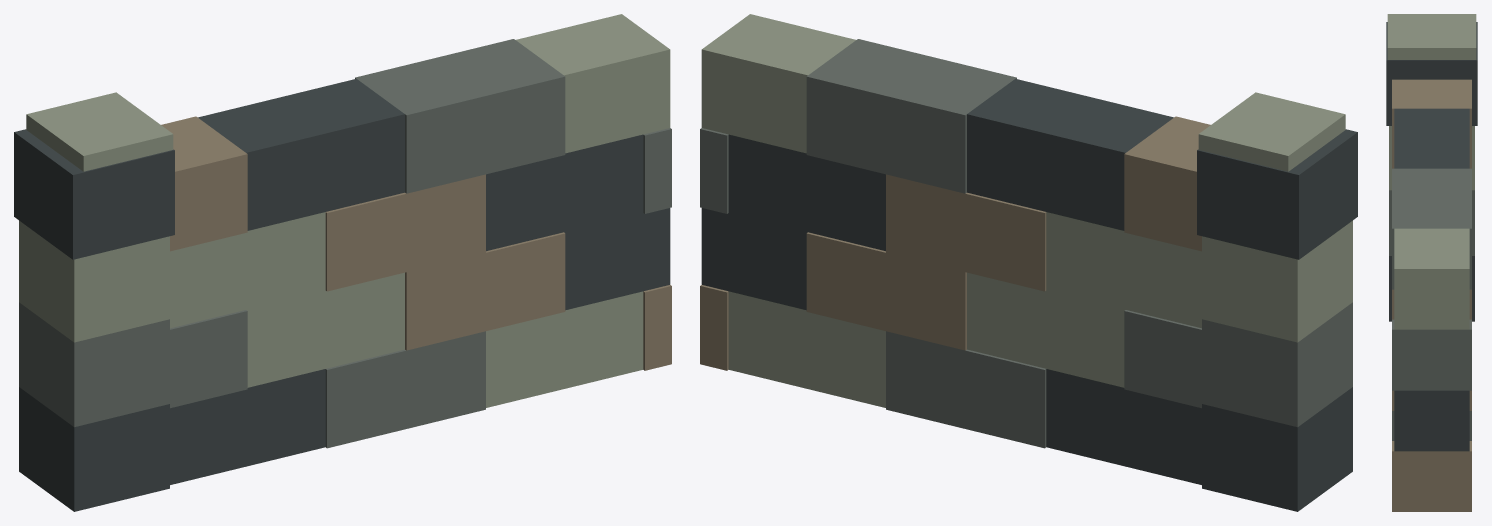
Rendered from TW_STONE_WALL_2M_B_LOD0.glb.
3 views of the same model, side by side, from view 1: azimuth 30°, elevation 25°; view 2: azimuth 150°, elevation 25°; view 3: azimuth 270°, elevation 25° (orthographic). The views are drawn at different scales.
Visible parts, largest first — view 1: TW_STONE_WALL_2M_B_LOD0; view 2: TW_STONE_WALL_2M_B_LOD0; view 3: TW_STONE_WALL_2M_B_LOD0.
Part boxes in pixels (box(x1,y1,x2,y2)): TW_STONE_WALL_2M_B_LOD0: box(14, 14, 671, 511); TW_STONE_WALL_2M_B_LOD0: box(700, 14, 1357, 511); TW_STONE_WALL_2M_B_LOD0: box(1386, 14, 1477, 511).
Bounding box in the file's own units: 2.01 × 1.13 × 0.34.
1 material, 1 textured.
